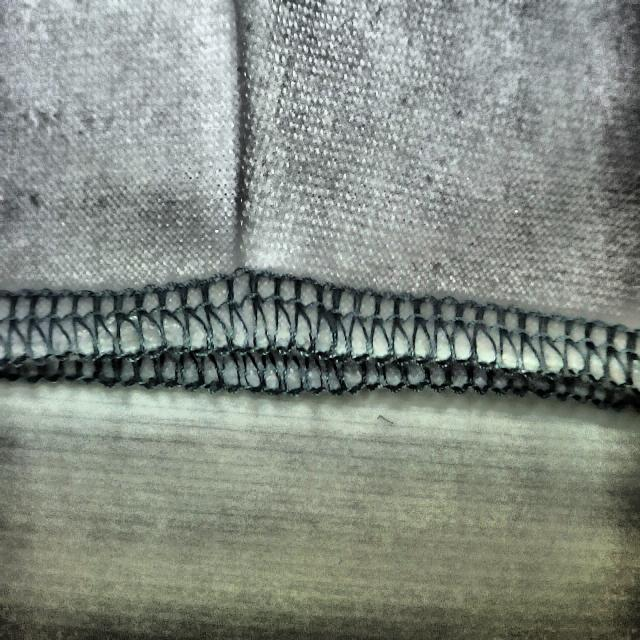gray stitch: (194, 60, 309, 351)
